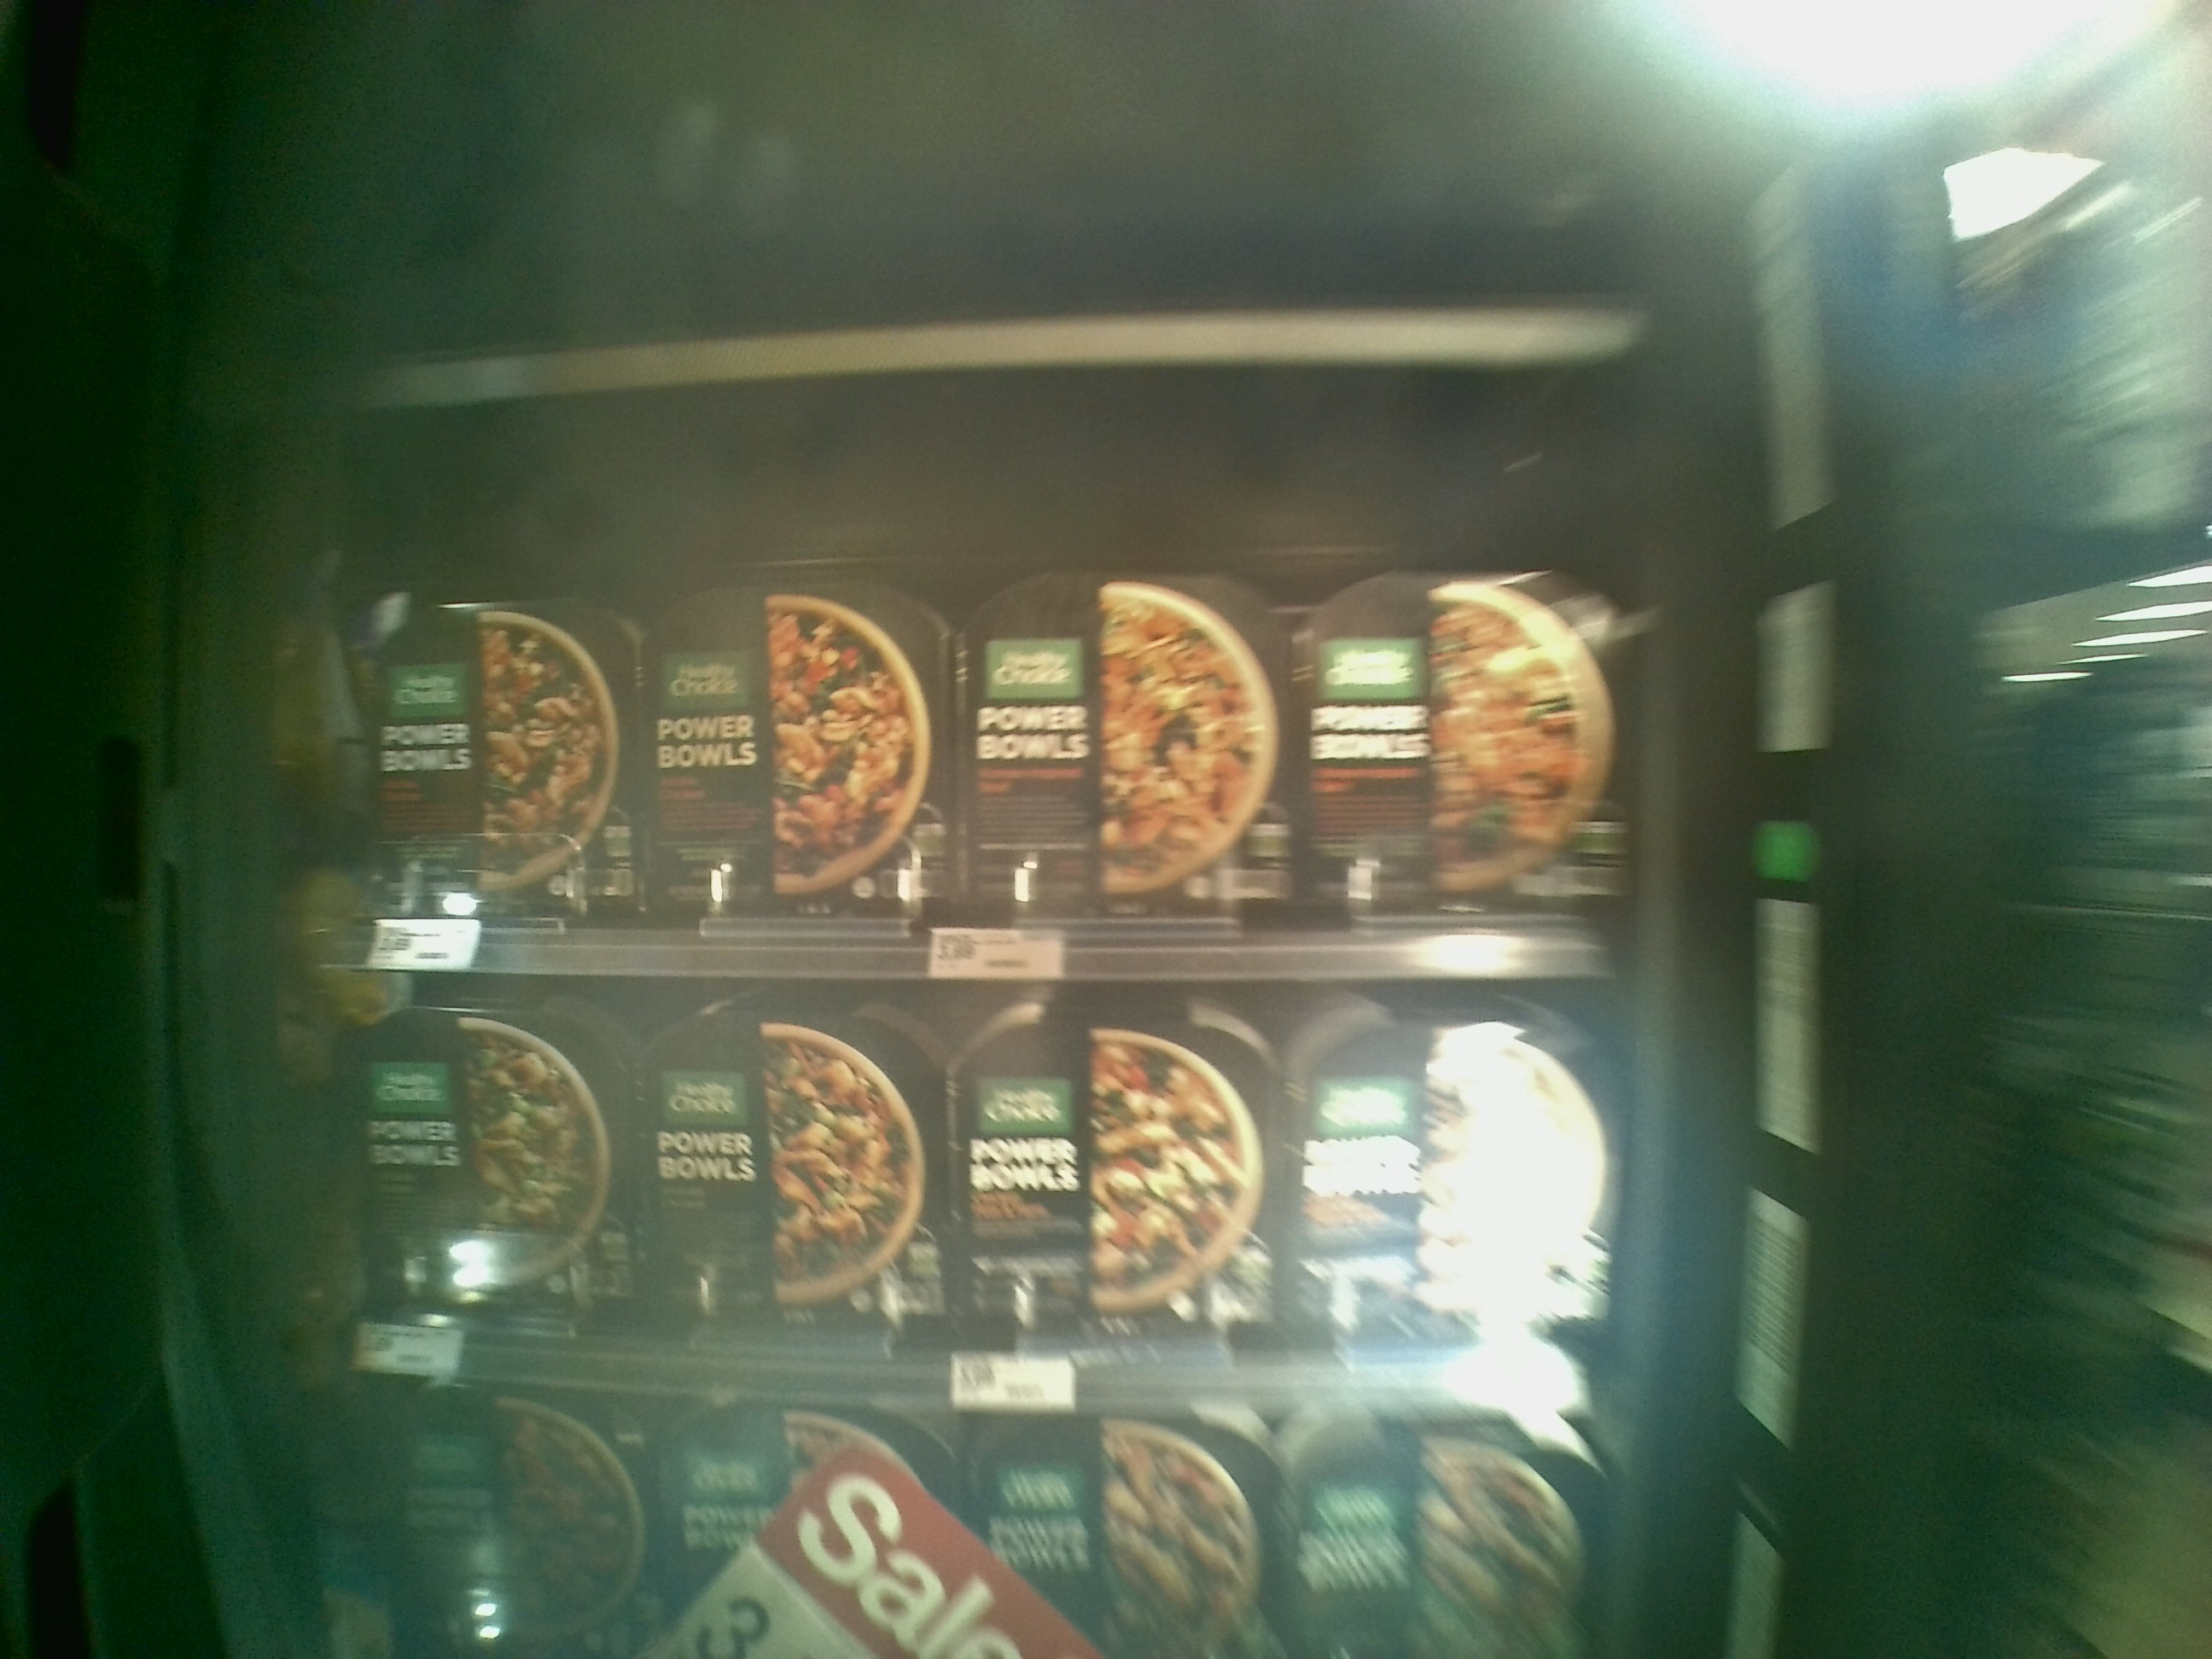shelf: (347, 319, 1601, 972), (355, 978, 1606, 1382)
